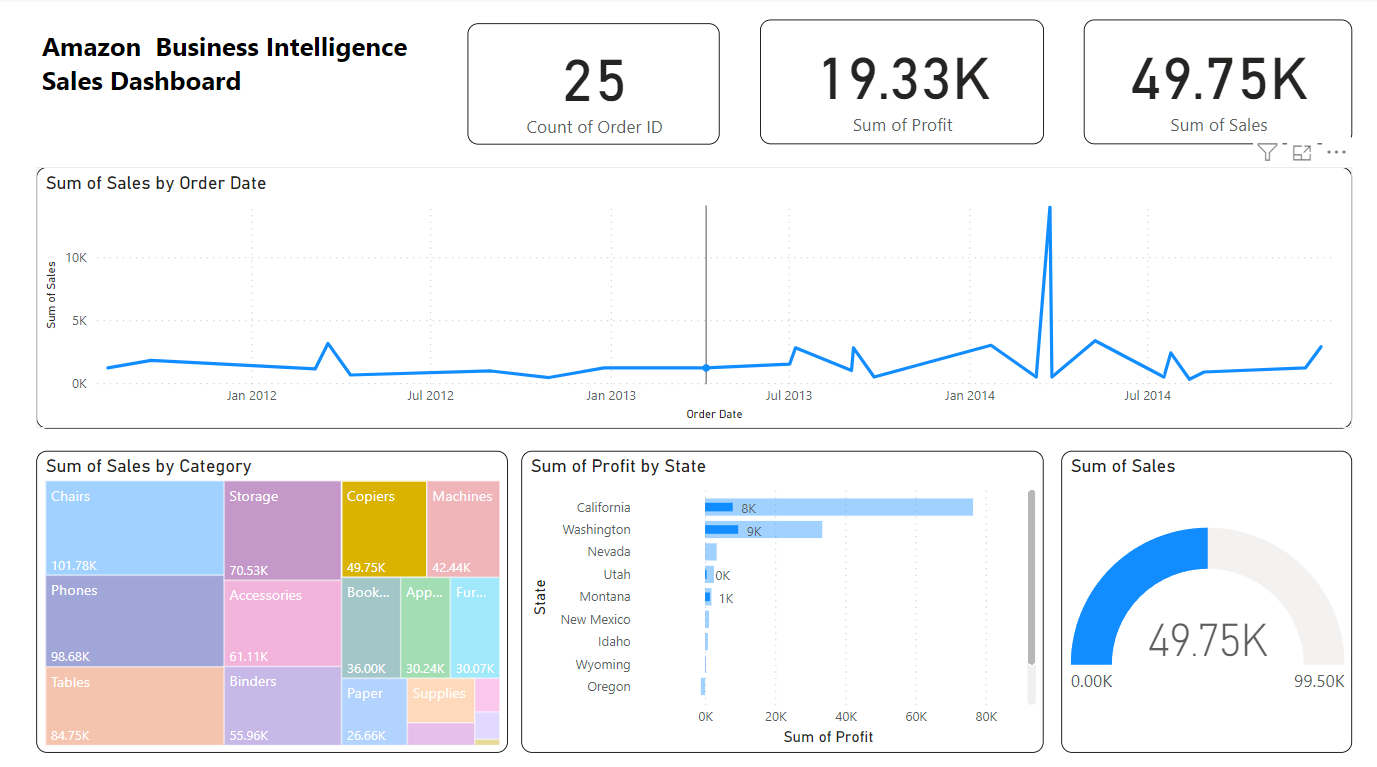

The dashboard page shown, as its layout file describes it:
{"tool":"powerbi","page":{"name":"Page 1","canvas":[1280,720],"ordinal":0},"visuals":[{"type":"card","fields":{"Values":["Sum(Walmart.Sales)"]},"box":[1007.4,20.9,249.8,116.2],"z":0},{"type":"card","fields":{"Values":["Sum(Walmart.Profit)"]},"box":[706.5,20.9,263.8,116.2],"z":1000},{"type":"card","fields":{"Values":["CountNonNull(Walmart.Order ID)"]},"box":[434.6,24.4,234.7,112.7],"z":2000},{"type":"lineChart","fields":{"Category":["Walmart.Order Date"],"Y":["Sum(Walmart.Sales)"]},"box":[33.7,158,1223.5,242.8],"z":3000},{"type":"treemap","fields":{"Group":["Walmart.Category"],"Values":["Sum(Walmart.Sales)"]},"box":[33.7,421.8,438.1,281.2],"z":4000},{"type":"clusteredBarChart","fields":{"Category":["Walmart.State"],"Y":["Sum(Walmart.Profit)"]},"box":[484.5,421.8,485.7,281.2],"z":5000},{"type":"gauge","fields":{"Y":["Sum(Walmart.Sales)"]},"box":[986.5,421.8,270.7,281.2],"z":6000},{"type":"textbox","box":[33.7,24.4,369.5,116.2],"z":7000}]}

Visuals, with their boxes in screenshot pixels (x1, y1, x2, y2), scaled from the page's 1280x720 canvas onto the 1377x767 screenshot:
card - Sum(Walmart.Sales): 1084, 22, 1352, 146
card - Sum(Walmart.Profit): 760, 22, 1044, 146
card - CountNonNull(Walmart.Order ID): 468, 26, 720, 146
lineChart - Walmart.Order Date x Sum(Walmart.Sales): 36, 168, 1352, 427
treemap - Walmart.Category x Sum(Walmart.Sales): 36, 449, 508, 749
clusteredBarChart - Walmart.State x Sum(Walmart.Profit): 521, 449, 1044, 749
gauge - Sum(Walmart.Sales): 1061, 449, 1352, 749
textbox: 36, 26, 434, 150
